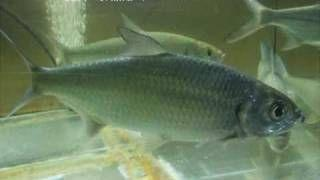Indo-Pacific Tarpon: (1, 20, 305, 145)
